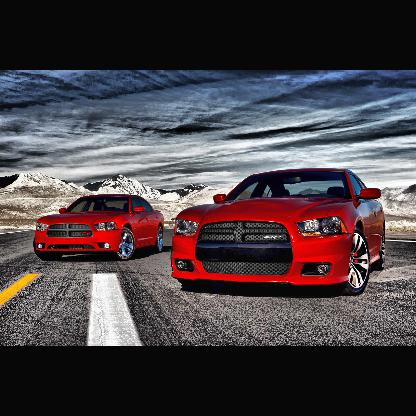Dodge Charger SRT-8 2009: (173, 168, 390, 295)
